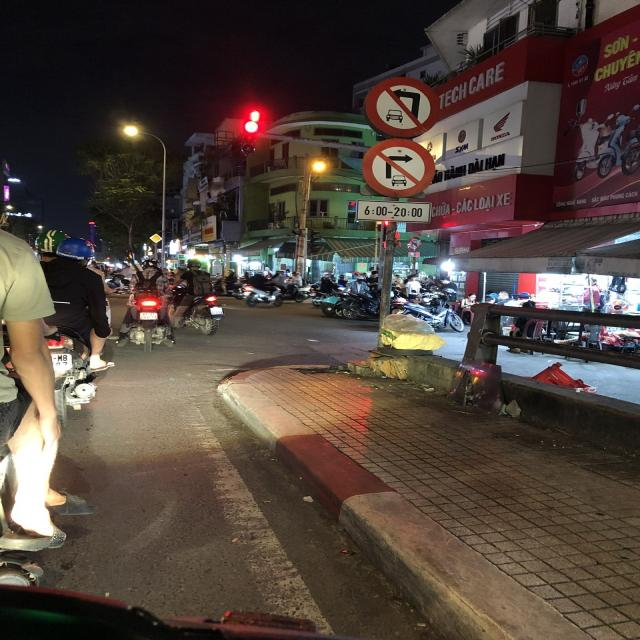Bien bao cam xe o to re phai: (357, 133, 441, 200)
Bien bao cam xe o to re trai: (355, 69, 446, 136)
